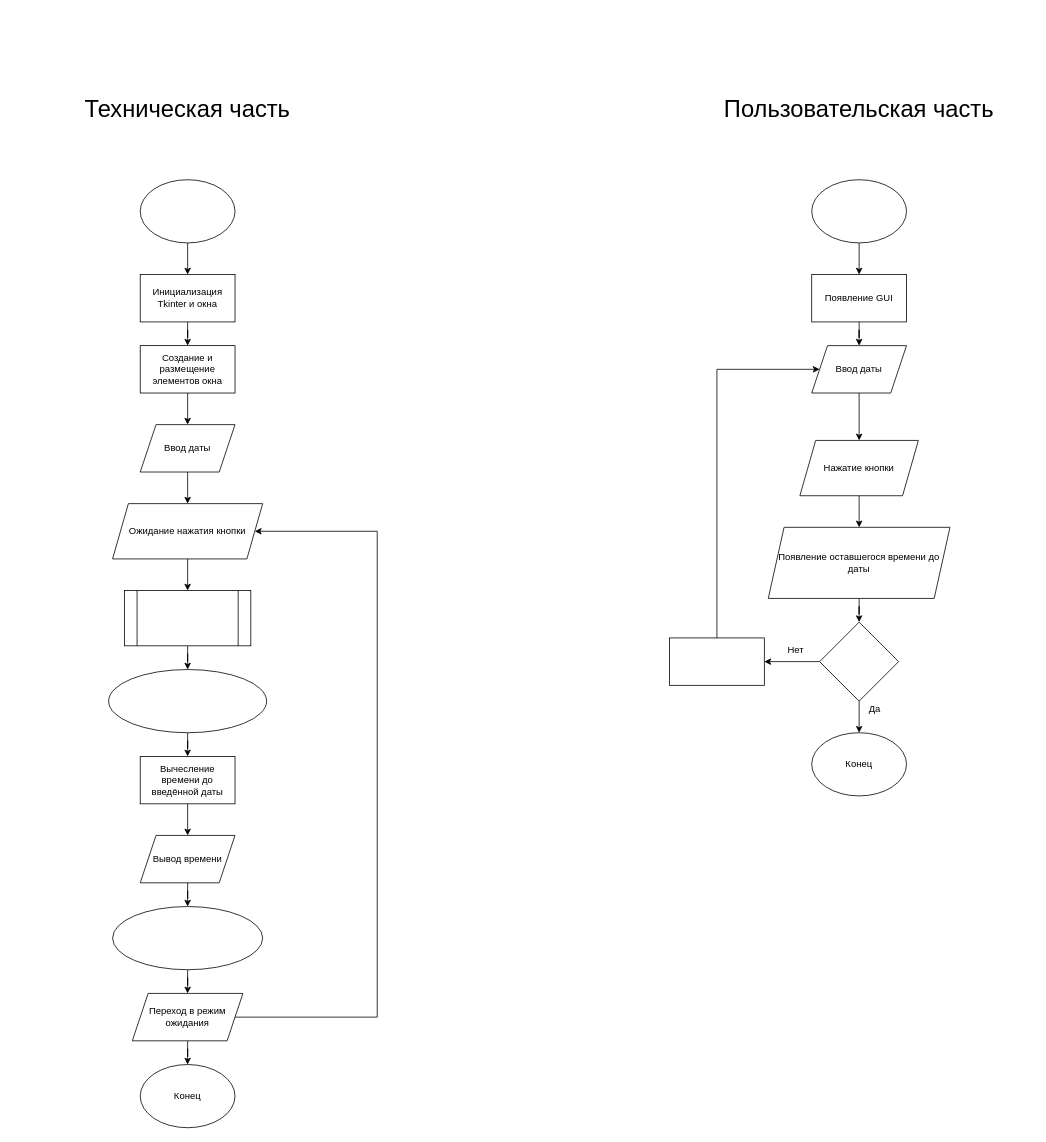
Some shapes in this 1046 by 1142 pixel diagram are drawn without their labels. Here are the shapes that lost their labels. From the top down, the box of each, then its label:
(139, 179, 235, 243): Начало
(811, 179, 907, 243): Запуск
(124, 590, 251, 646): Вызов функции start_timer()
(669, 637, 764, 685): Ожидание действия
(819, 621, 899, 701): Программу закрыли?
(108, 669, 267, 733): Начало start_timer()
(112, 906, 263, 970): Конец start_timer()
